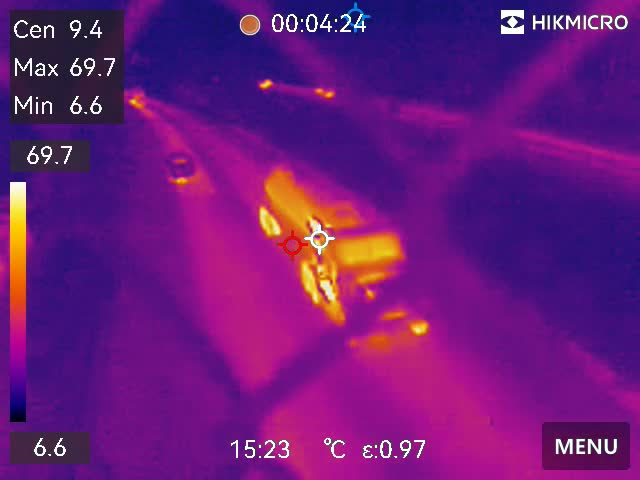heavyTruck: (261, 151, 435, 349)
